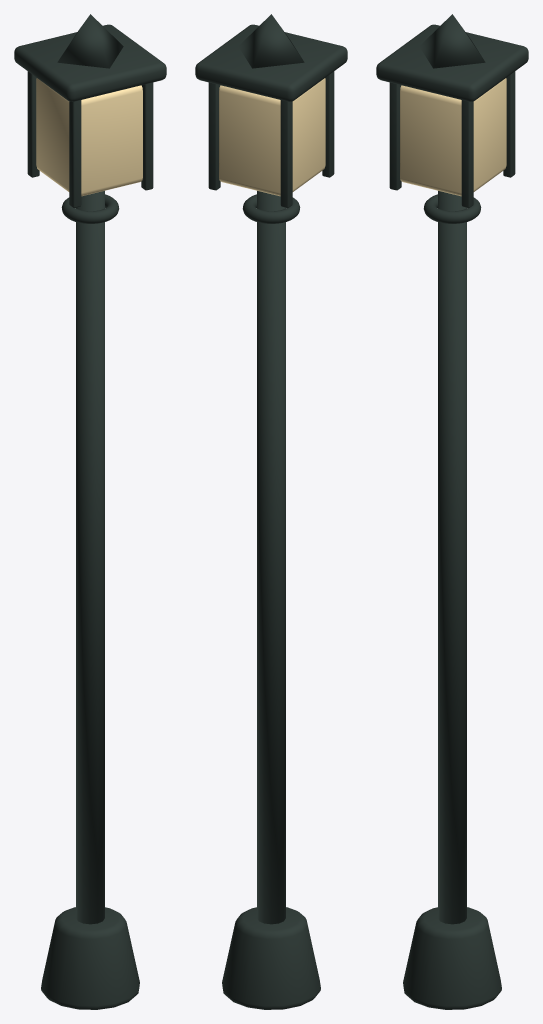
Rendered from lampadaire.glb.
3 renders of one model, left to right at view 1: azimuth 30°, elevation 25°; view 2: azimuth 150°, elevation 25°; view 3: azimuth 330°, elevation 25°, orthographic.
Visible parts, largest first — view 1: mat, lanterne, socle, chapeau, pointe, montant0, montant1, montant2, anneau; view 2: mat, lanterne, socle, chapeau, pointe, montant2, montant3, montant0, anneau; view 3: mat, lanterne, socle, chapeau, pointe, montant1, montant0, montant3, anneau.
Boxes of the visible parts, box(x1,y1,x2,y2) form: mat: box(76, 191, 104, 924); lanterne: box(36, 78, 142, 196); socle: box(41, 907, 139, 1009); chapeau: box(14, 24, 166, 101); pointe: box(57, 14, 123, 68); montant0: box(69, 100, 81, 207); montant1: box(141, 82, 153, 190); montant2: box(27, 71, 39, 177); anneau: box(61, 194, 119, 223); mat: box(257, 191, 285, 924); lanterne: box(219, 78, 325, 196); socle: box(222, 907, 320, 1009); chapeau: box(195, 24, 347, 101); pointe: box(238, 14, 304, 68); montant2: box(280, 100, 292, 207); montant3: box(208, 82, 220, 190); montant0: box(322, 71, 334, 177); anneau: box(242, 194, 300, 223); mat: box(438, 191, 466, 924); lanterne: box(400, 78, 506, 196); socle: box(403, 907, 501, 1009); chapeau: box(376, 24, 528, 101); pointe: box(419, 14, 485, 68); montant1: box(461, 100, 473, 207); montant0: box(389, 82, 401, 190); montant3: box(503, 71, 515, 177); anneau: box(423, 194, 481, 223).
Size of the model in its own units: 0.36 by 3.37 by 0.36.
